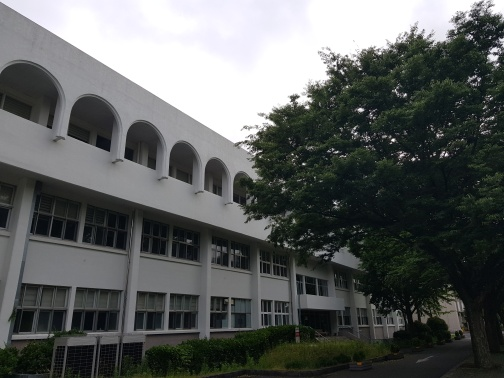Main Building of University: (2, 16, 376, 356), (18, 184, 209, 334), (66, 82, 229, 205), (286, 240, 352, 341)
